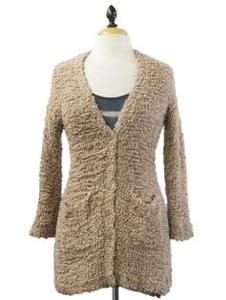C_cardigan sweater: (34, 44, 205, 289)
